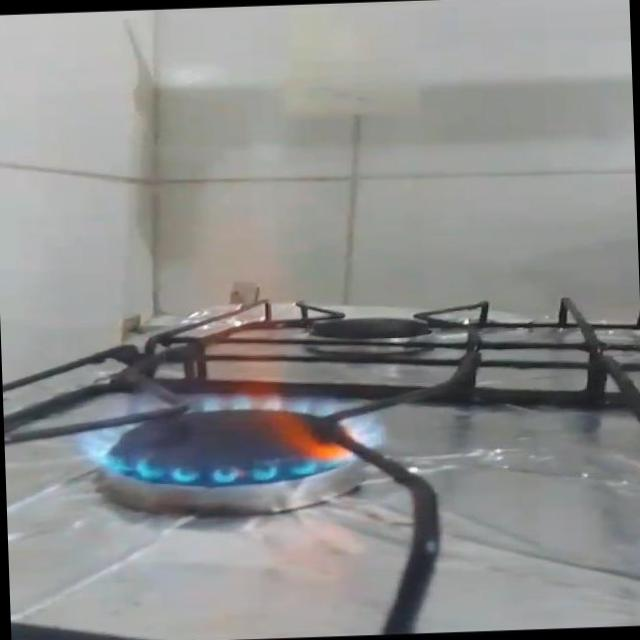Fire: (64, 211, 398, 494)
